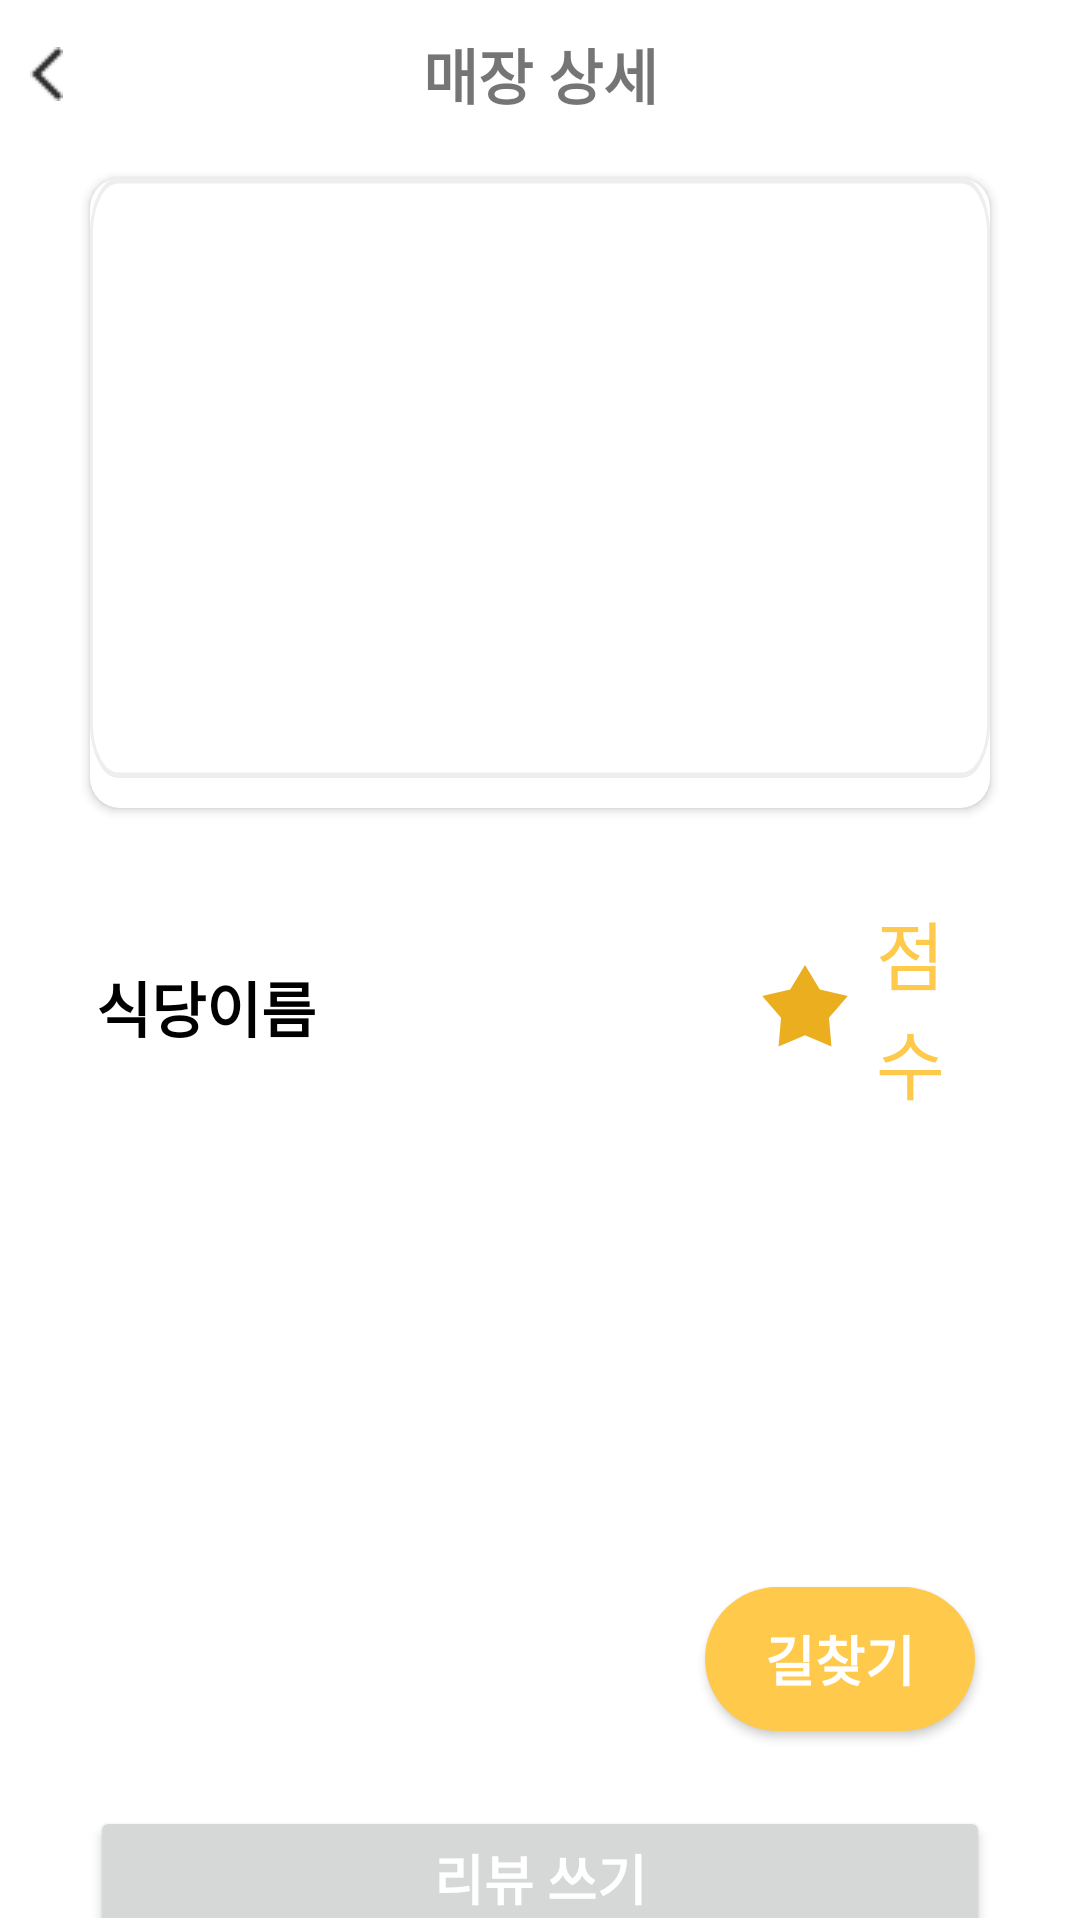

Where to tap for icons on this 1080 × 1920 app screen, as (x,y):
return cmong: (46,74)
